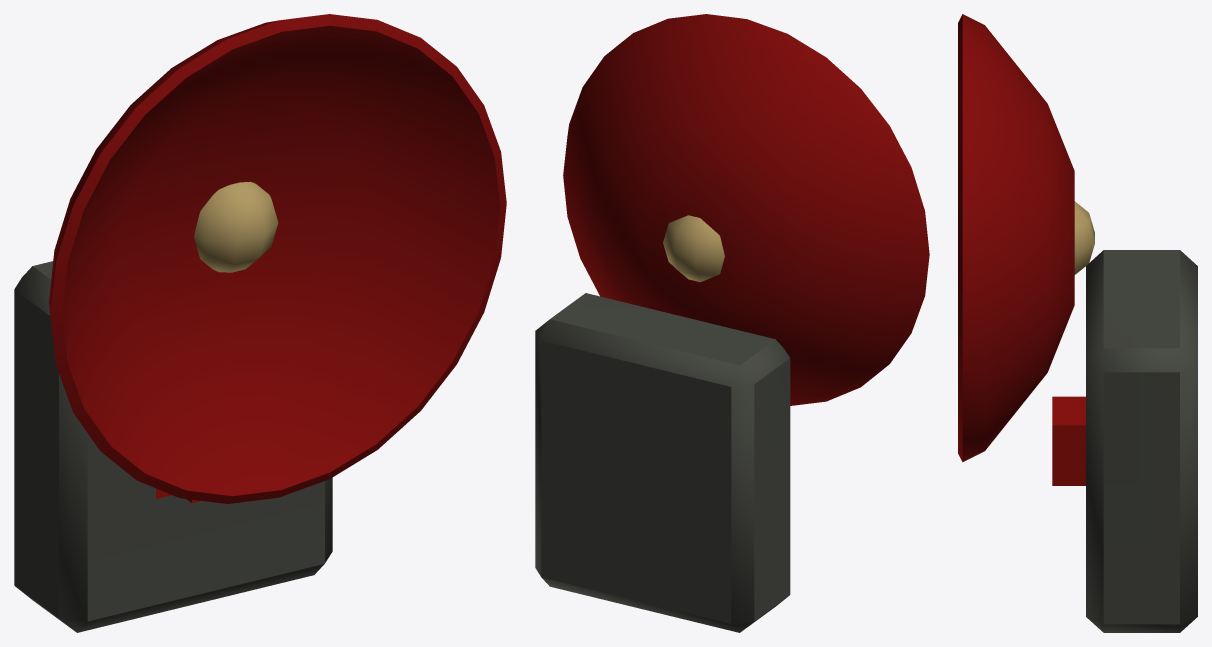
File: school-electric-bell.glb
3 views of the same model, side by side, from view 1: azimuth 30°, elevation 25°; view 2: azimuth 150°, elevation 25°; view 3: azimuth 270°, elevation 25° (orthographic). The views are drawn at different scales.
Parts seen in each view (by area): view 1: gong__lacquer, box__plastic; view 2: gong__lacquer, box__plastic; view 3: box__plastic, gong__lacquer, button__lacquer.
Boxes of the visible parts, x1,y1,x2,y2 form: gong__lacquer: [49, 14, 506, 503]; box__plastic: [14, 261, 332, 632]; gong__lacquer: [563, 14, 929, 405]; box__plastic: [535, 293, 790, 632]; box__plastic: [1086, 250, 1197, 632]; gong__lacquer: [958, 14, 1094, 462]; button__lacquer: [1052, 396, 1085, 485].
Bounding box in the file's own units: 0.2 × 0.27 × 0.107.
